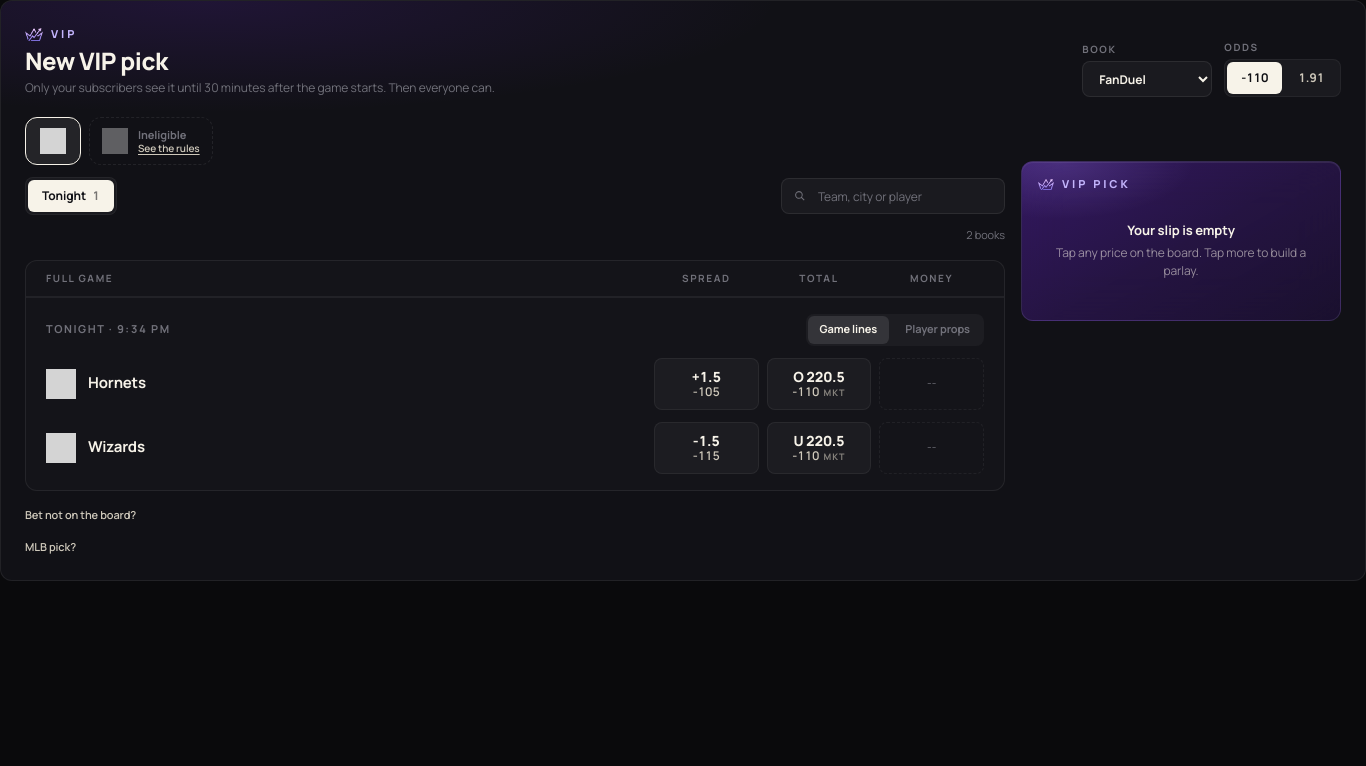
Scenario: PickBuilder review fixes › keeps the MLB editor for a seller eligible in MLB and NBA
The width and height of the screenshot is (1366, 766).
Check: the button "Bet not on the board?" is shown, box [25,506,136,523]
Step 1. Click the button "MLB pick?" → (51, 547), box [25,539,76,556]
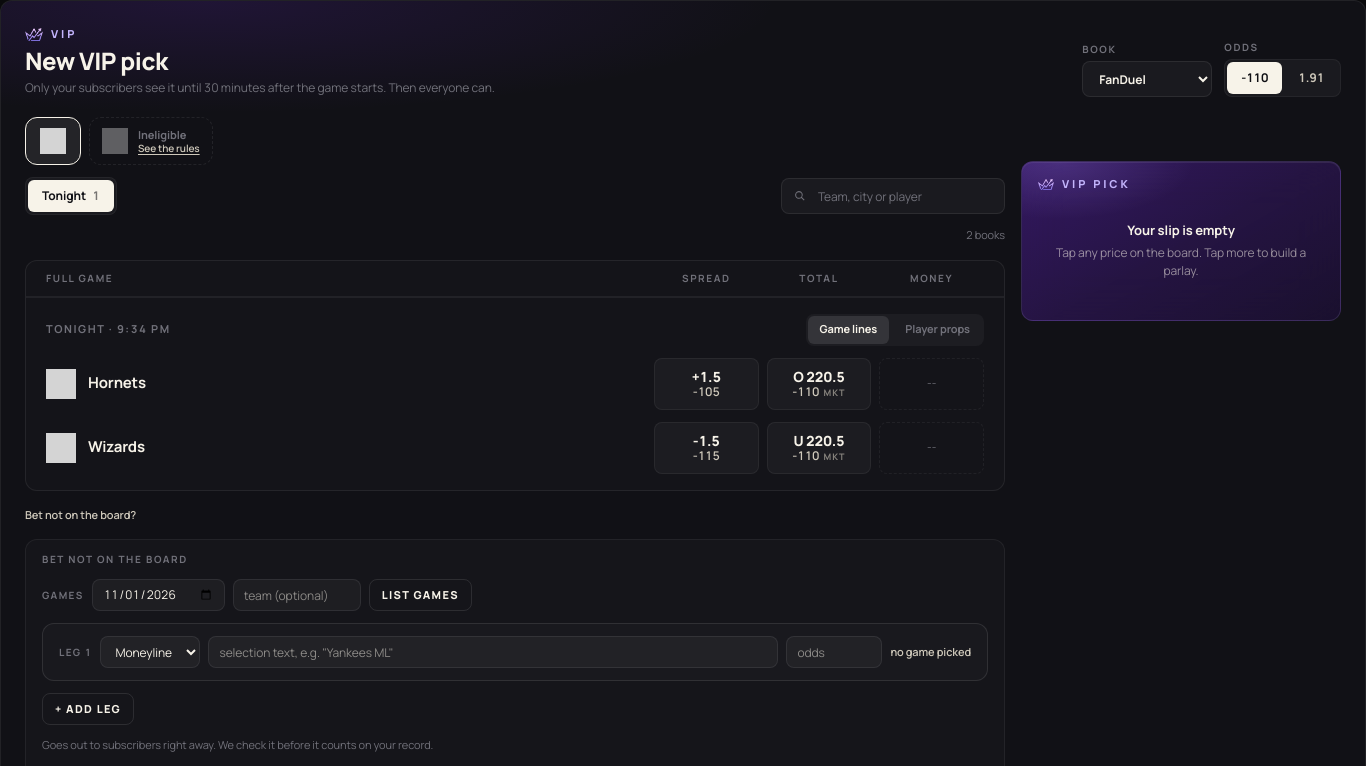
Check: the button "List games" is shown, box [369,579,472,611]
